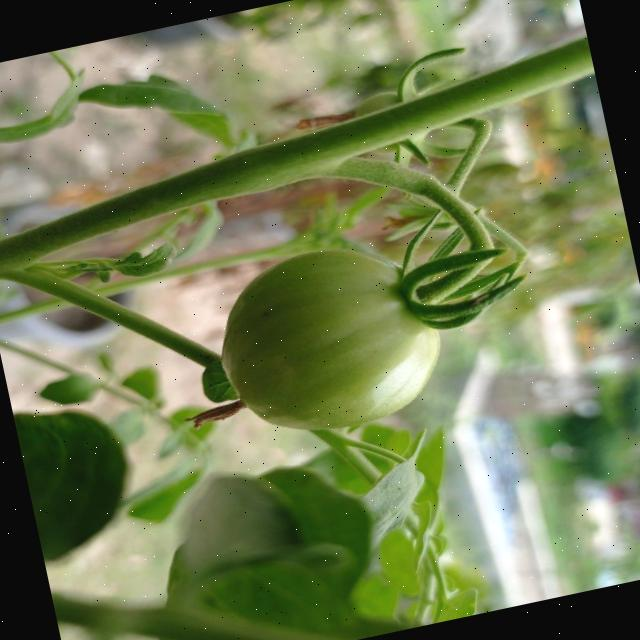Unripe: (202, 225, 453, 450)
